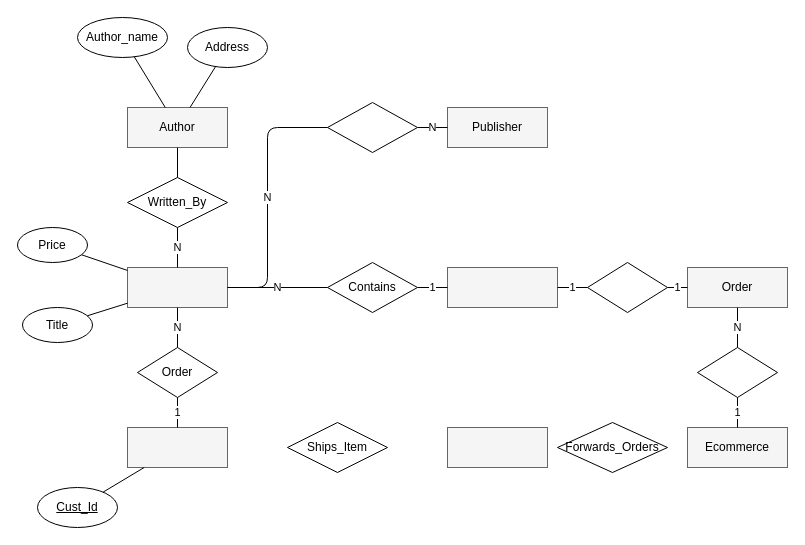
Image size: 805x545. Some labels were removed from this diagram. The shapes that lost their labels are listed below. From the top down, each one's centre as x and y in pixels, then its label:
the point at 372,127: Publish By
the point at 177,287: Book
the point at 502,287: Shipping_cart
the point at 627,287: Creates
the point at 737,372: Process
the point at 177,447: Customer
the point at 497,447: Shipping
